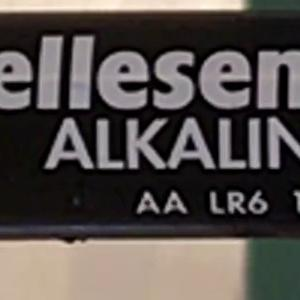keyword: (36, 110, 162, 178)
